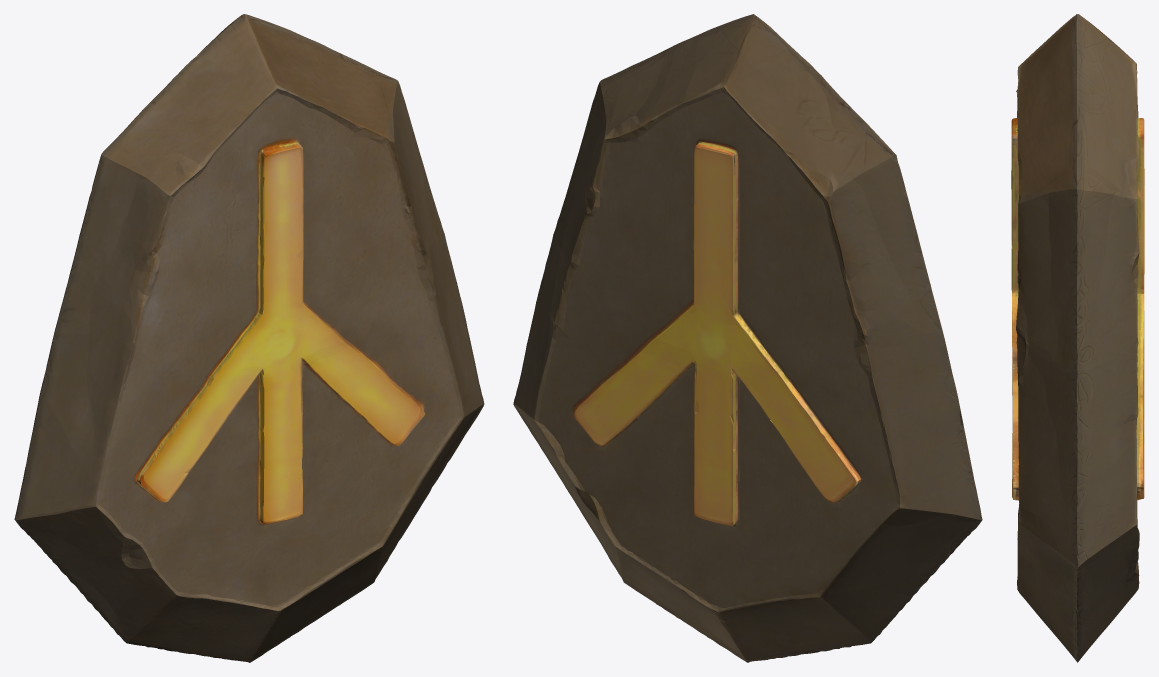
Rendered from Rune_of_Dead_0527121122_texture.fbx.
3 views of the same model, side by side, from view 1: azimuth 30°, elevation 25°; view 2: azimuth 150°, elevation 25°; view 3: azimuth 270°, elevation 25° (orthographic). The views are drawn at different scales.
Visible parts, largest first — view 1: temp; view 2: temp; view 3: temp.
Part boxes in pixels (box(x1,y1,x2,y2)): temp: box(14, 14, 484, 662); temp: box(513, 14, 982, 662); temp: box(1011, 14, 1144, 662).
Bounding box in the file's own units: 150 × 198 × 37.6.
Materials: 1 (1 with a texture image).
